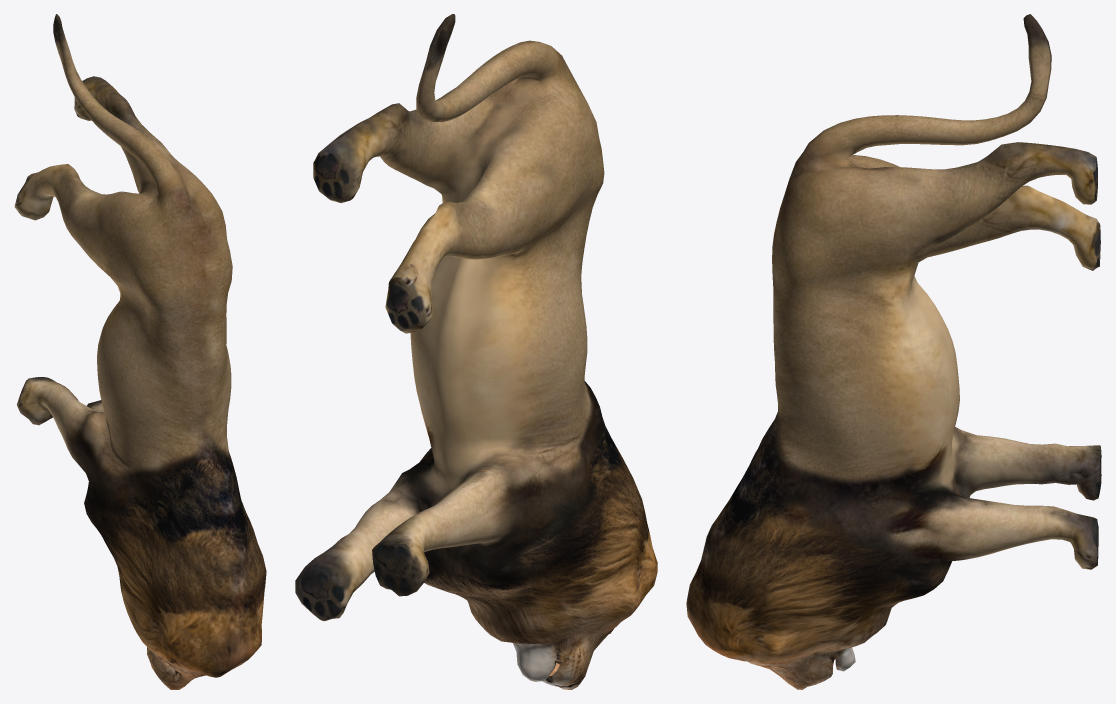
The model's file is lion.glb.
3 views of the same model, side by side, from view 1: azimuth 30°, elevation 25°; view 2: azimuth 150°, elevation 25°; view 3: azimuth 270°, elevation 25° (orthographic). The views are drawn at different scales.
Parts seen in each view (by area): view 1: Object_7; view 2: Object_7; view 3: Object_7.
Part boxes in pixels (x1,y1,x2,y2): Object_7: (14, 14, 266, 689); Object_7: (295, 14, 657, 689); Object_7: (686, 14, 1101, 689).
Bounding box in the file's own units: 0.5474 × 2.51 × 1.42.
Materials: 1 (1 with a texture image).
